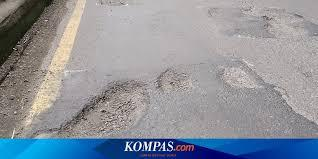Pothole: (12, 72, 311, 139), (215, 4, 308, 58), (92, 0, 137, 14)
